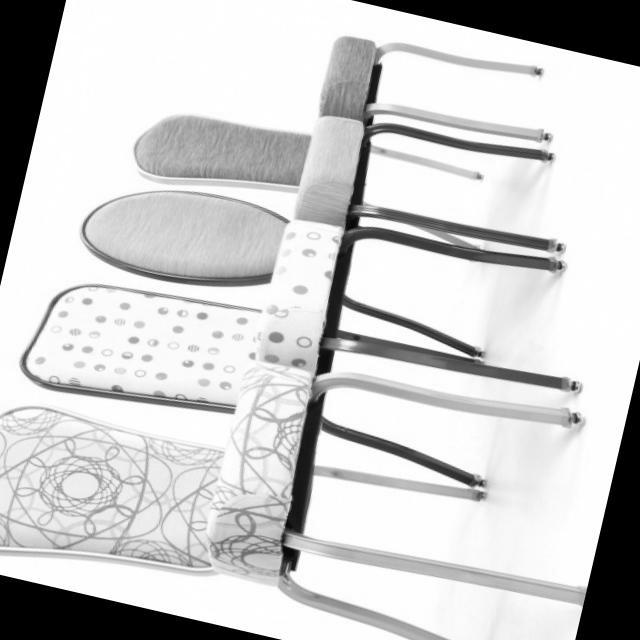chair: (0, 276, 625, 640), (15, 146, 571, 500), (68, 54, 556, 359), (113, 0, 552, 263)
